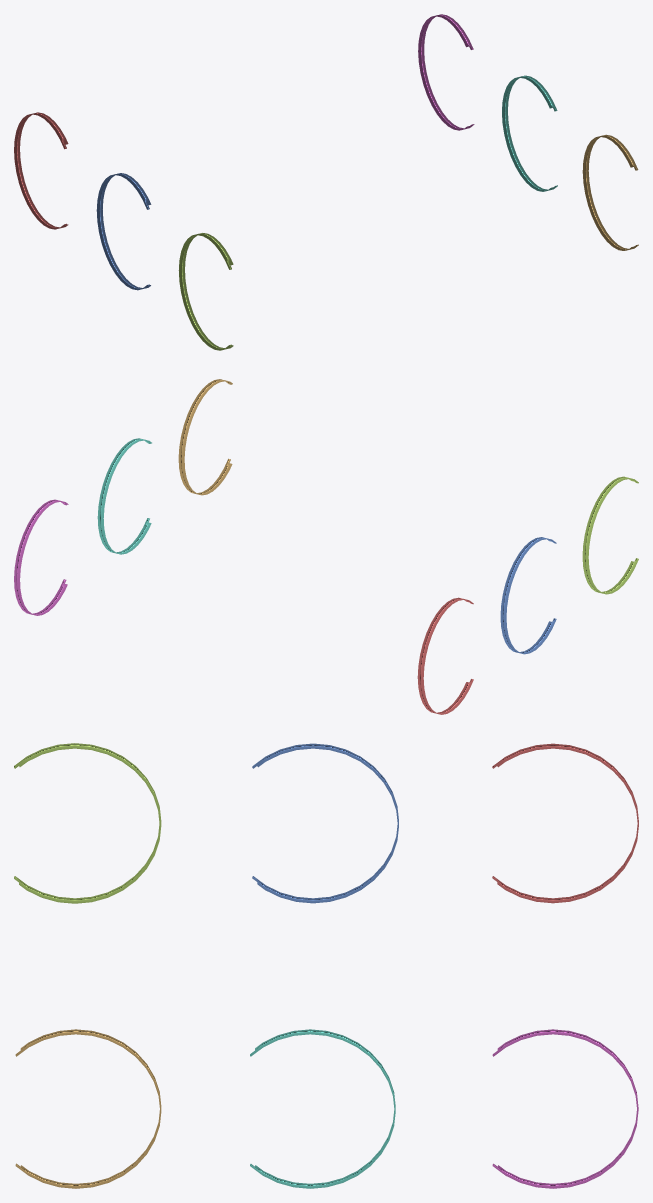
File: moon-steel-original.glb
3 views of the same model, one above another, from view 1: azimuth 30°, elevation 25°; view 2: azimuth 150°, elevation 25°; view 3: azimuth 270°, elevation 25° (orthographic). The views are drawn at different scales.
Parts seen in each view (by area): view 1: Cylinder.022, Cylinder.024, Cylinder.028, Cylinder.020, Cylinder.026, Cylinder.018; view 2: Cylinder.022, Cylinder.020, Cylinder.024, Cylinder.028, Cylinder.018, Cylinder.026; view 3: Cylinder.022, Cylinder.020, Cylinder.028, Cylinder.026, Cylinder.024, Cylinder.018.
Part boxes in pixels (x1=…): Cylinder.022: x1=178, y1=233, x2=233, y2=350; Cylinder.024: x1=418, y1=14, x2=474, y2=130; Cylinder.028: x1=582, y1=134, x2=638, y2=250; Cylinder.020: x1=96, y1=173, x2=151, y2=290; Cylinder.026: x1=502, y1=75, x2=557, y2=191; Cylinder.018: x1=14, y1=112, x2=68, y2=229; Cylinder.022: x1=582, y1=476, x2=638, y2=594; Cylinder.020: x1=500, y1=537, x2=556, y2=654; Cylinder.024: x1=14, y1=499, x2=68, y2=615; Cylinder.028: x1=178, y1=379, x2=232, y2=495; Cylinder.018: x1=417, y1=597, x2=473, y2=714; Cylinder.026: x1=97, y1=438, x2=151, y2=554; Cylinder.022: x1=14, y1=743, x2=161, y2=903; Cylinder.020: x1=252, y1=743, x2=398, y2=903; Cylinder.028: x1=15, y1=1029, x2=161, y2=1188; Cylinder.026: x1=250, y1=1029, x2=395, y2=1188; Cylinder.024: x1=492, y1=1029, x2=638, y2=1188; Cylinder.018: x1=492, y1=743, x2=638, y2=903.
Size of the model in its own units: 16.43 by 4.14 by 14.97.
